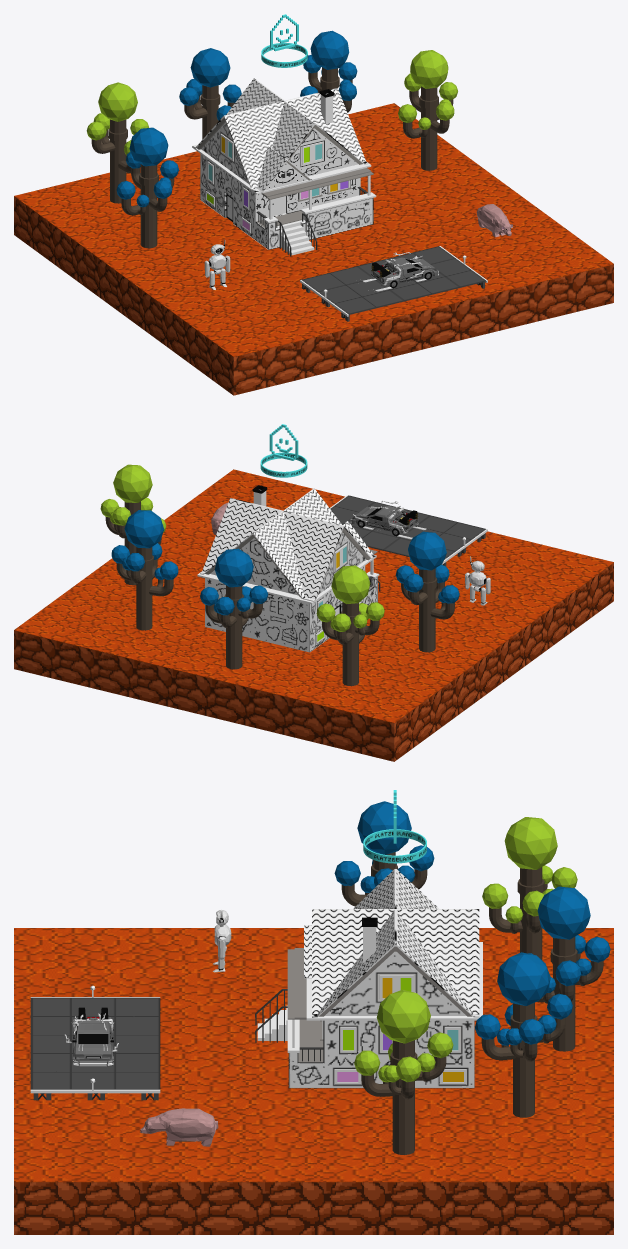
3 views of the same model, one above another, from view 1: azimuth 30°, elevation 25°; view 2: azimuth 150°, elevation 25°; view 3: azimuth 270°, elevation 25° (orthographic). The views are drawn at different scales.
Parts seen in each view (by area): view 1: Cube.001, Cube.879, VEHICLES_DELOREAN, TYPE_PREMIUM, ANIMAL_HIPOPOTAMO, OBJRANDOM_PLATZEEBOT; view 2: Cube.001, Cube.879, VEHICLES_DELOREAN, TYPE_PREMIUM, OBJRANDOM_PLATZEEBOT; view 3: Cube.001, Cube.879, VEHICLES_DELOREAN, ANIMAL_HIPOPOTAMO, TYPE_PREMIUM, OBJRANDOM_PLATZEEBOT.
Part boxes in pixels (<box>): Cube.001: <box>14,30,613,395</box>; Cube.879: <box>192,78,376,256</box>; VEHICLES_DELOREAN: <box>360,252,439,291</box>; TYPE_PREMIUM: <box>261,14,307,67</box>; ANIMAL_HIPOPOTAMO: <box>476,204,512,237</box>; OBJRANDOM_PLATZEEBOT: <box>204,239,230,289</box>; Cube.001: <box>14,464,613,761</box>; Cube.879: <box>197,485,380,652</box>; VEHICLES_DELOREAN: <box>350,500,426,539</box>; TYPE_PREMIUM: <box>260,424,307,477</box>; OBJRANDOM_PLATZEEBOT: <box>465,556,490,605</box>; Cube.001: <box>14,801,613,1234</box>; Cube.879: <box>255,869,482,1088</box>; VEHICLES_DELOREAN: <box>64,1007,118,1066</box>; ANIMAL_HIPOPOTAMO: <box>140,1108,218,1146</box>; TYPE_PREMIUM: <box>363,790,426,863</box>; OBJRANDOM_PLATZEEBOT: <box>213,909,231,972</box>.
Bounding box in the file's own units: 4000 × 2433 × 4000.
41 materials, 13 textured.
